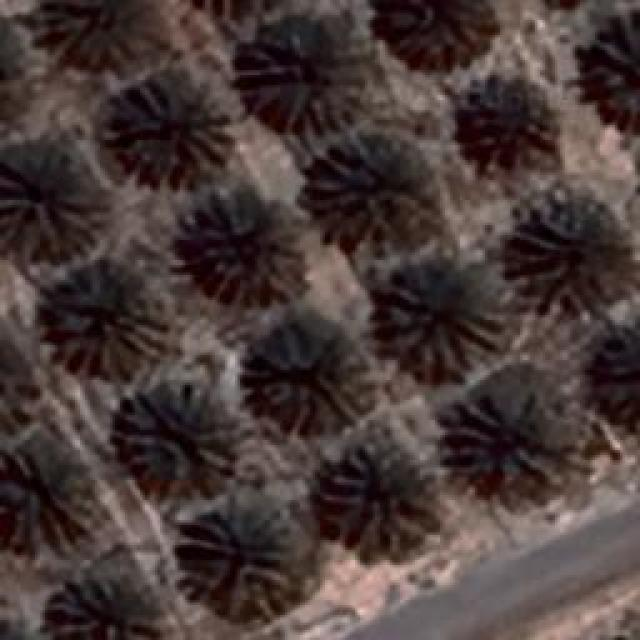PalmTree: (237, 20, 375, 130), (325, 435, 440, 555), (250, 318, 370, 432), (382, 262, 502, 376), (49, 260, 162, 378), (305, 135, 430, 240), (510, 198, 625, 312), (195, 190, 308, 305), (115, 380, 235, 482), (118, 80, 232, 182), (188, 502, 290, 616), (0, 150, 95, 258), (442, 398, 556, 480), (4, 442, 98, 540), (460, 78, 552, 170), (45, 574, 160, 638), (39, 0, 142, 65), (385, 0, 492, 62), (592, 12, 638, 128), (590, 326, 640, 432), (0, 31, 37, 123), (0, 327, 37, 419), (0, 596, 33, 640)
